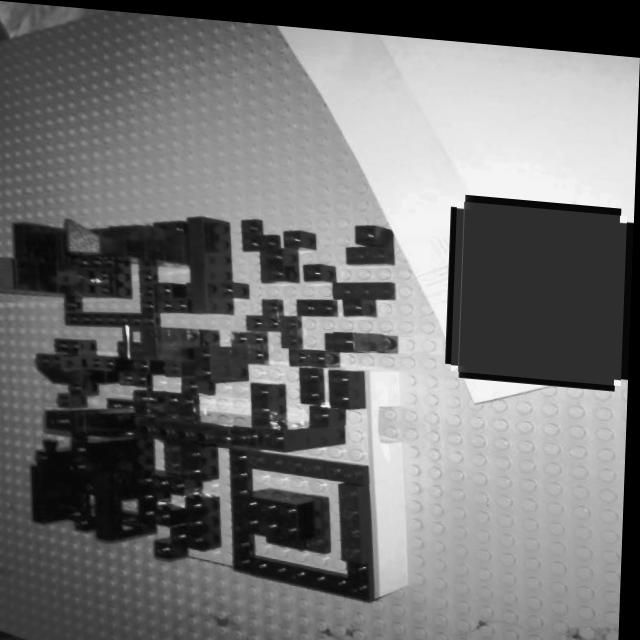qr_code: (454, 191, 629, 373)
